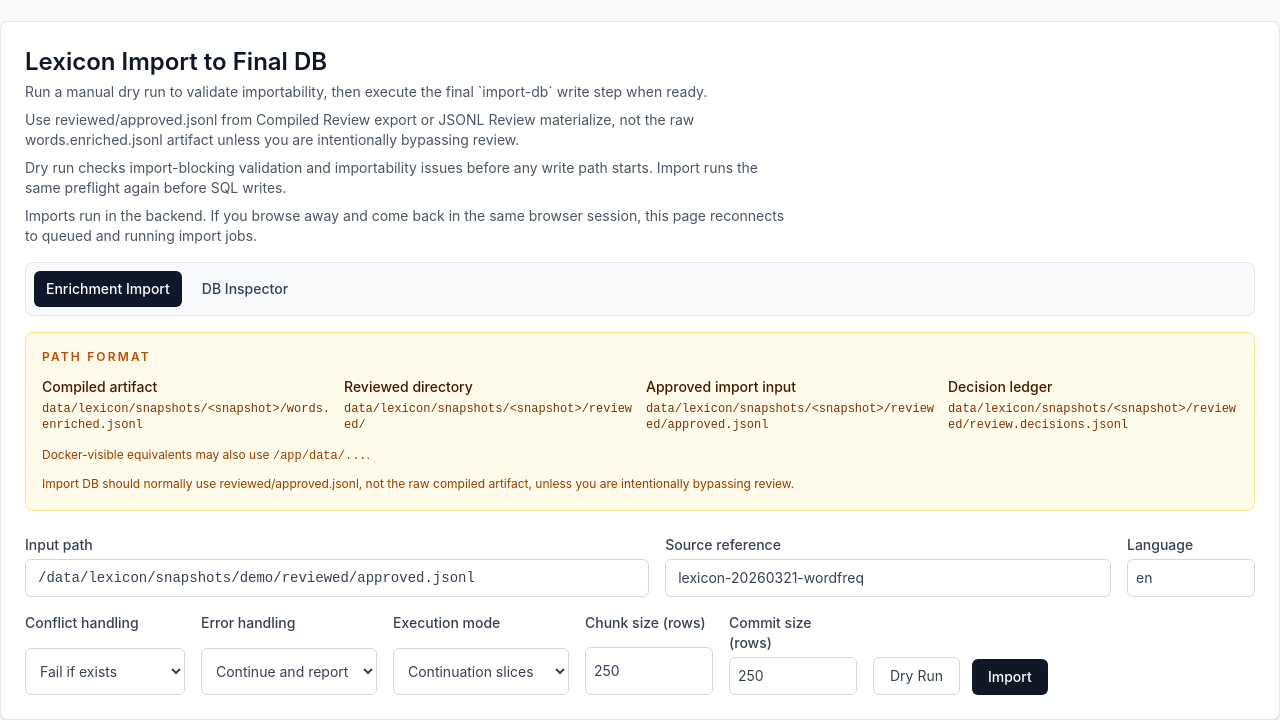
Test: LexiconImportDbPage › shows a clear lock conflict message when create returns 409
(page scrolled)
Step 1. Click the button with test id "lexicon-import-db-run-button" → (1010,677), box [972,659,1048,695]
(page scrolled)
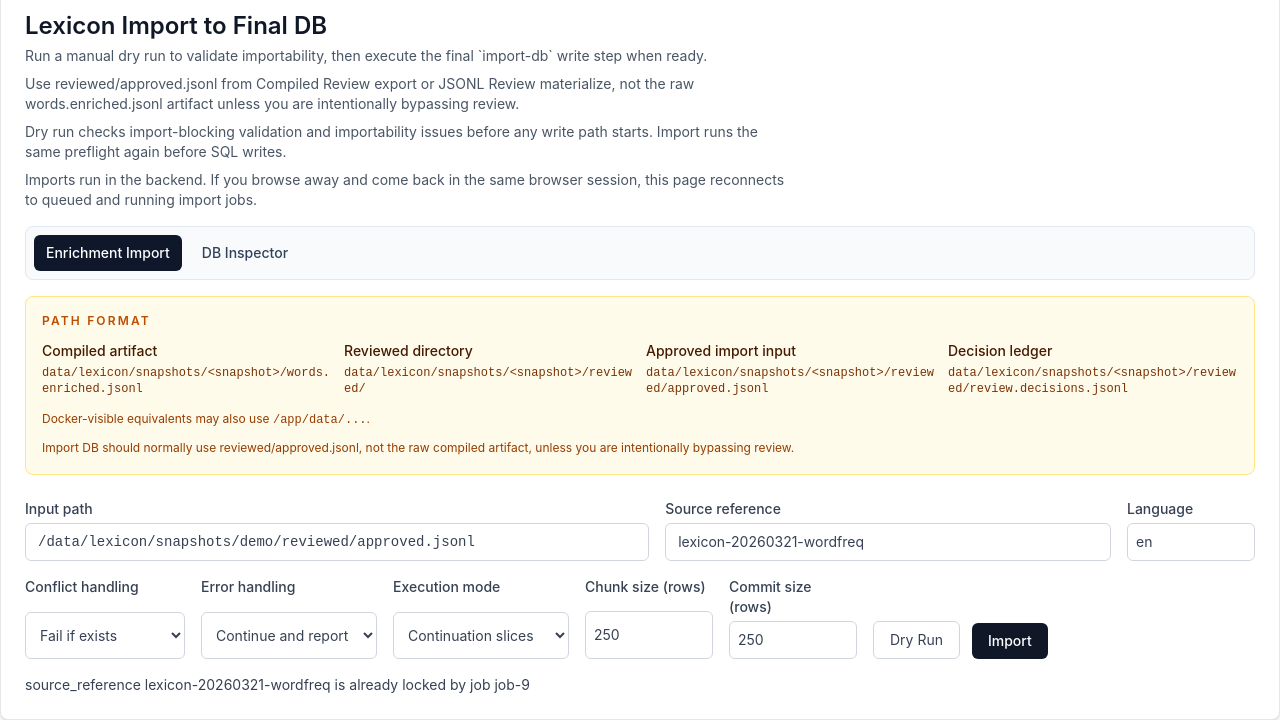
Result: the text "locked by job job-9" is shown at [25,676,530,693]
